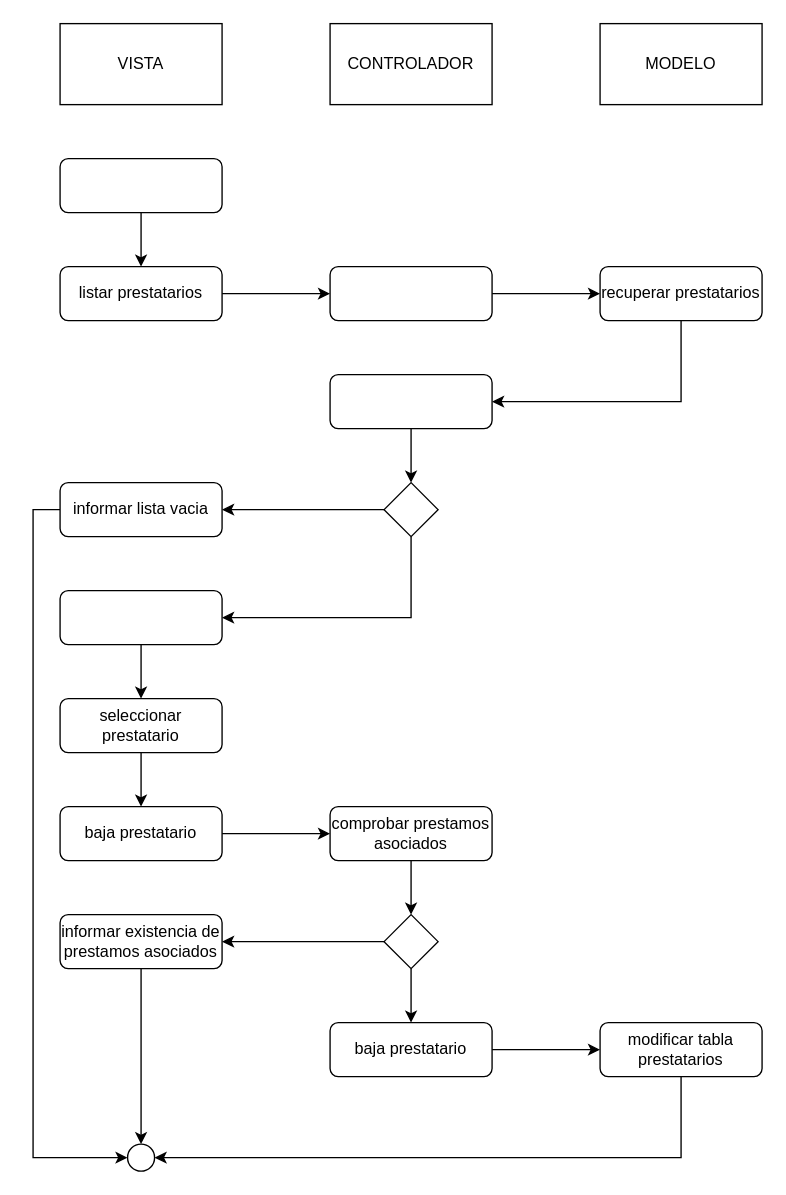
Some shapes in this 786 by 1195 pixel diagram are drawn without their labels. The box of each missing label's shape, as (x1, y1, x2, y2) in pixels:
comprobar lista: (329, 373, 492, 429)
mostrar lista: (59, 589, 222, 645)
recuperar lista prestatarios: (329, 265, 492, 321)
vista prestatarios: (59, 157, 222, 213)
